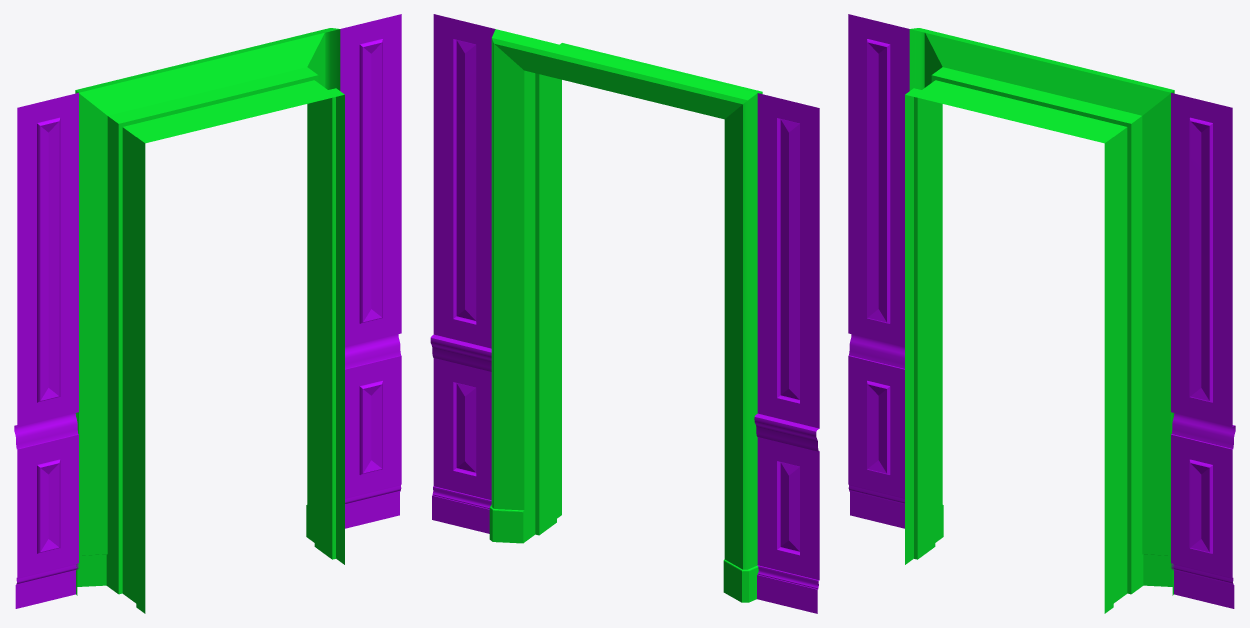
The model's file is AR-DoorFrame_2M_01.FBX.
3 views of the same model, side by side, from view 1: azimuth 30°, elevation 25°; view 2: azimuth 150°, elevation 25°; view 3: azimuth 330°, elevation 25° (orthographic).
Visible parts, largest first — view 1: AR-DoorFrame_2M_01; view 2: AR-DoorFrame_2M_01; view 3: AR-DoorFrame_2M_01.
Part boxes in pixels (x1,y1,x2,y2): AR-DoorFrame_2M_01: [14, 14, 401, 613]; AR-DoorFrame_2M_01: [430, 14, 819, 613]; AR-DoorFrame_2M_01: [848, 14, 1235, 613].
Bounding box in the file's own units: 200 × 250 × 40.37.
